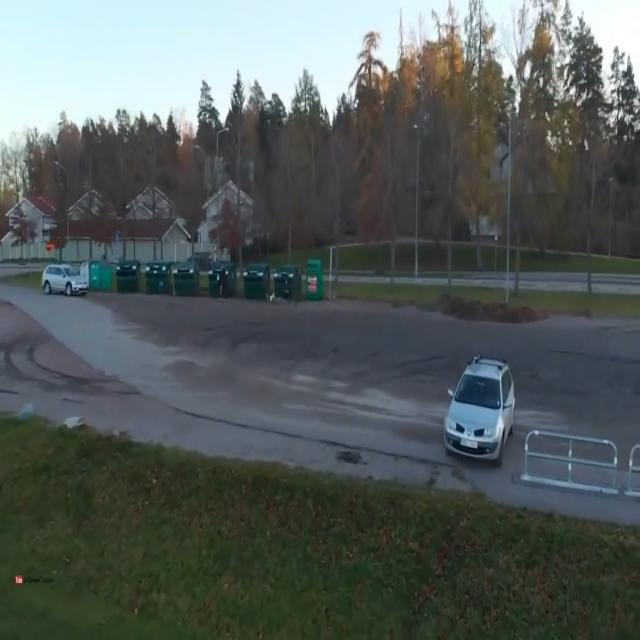Vehicle: (439, 356, 523, 466), (40, 257, 90, 302)
